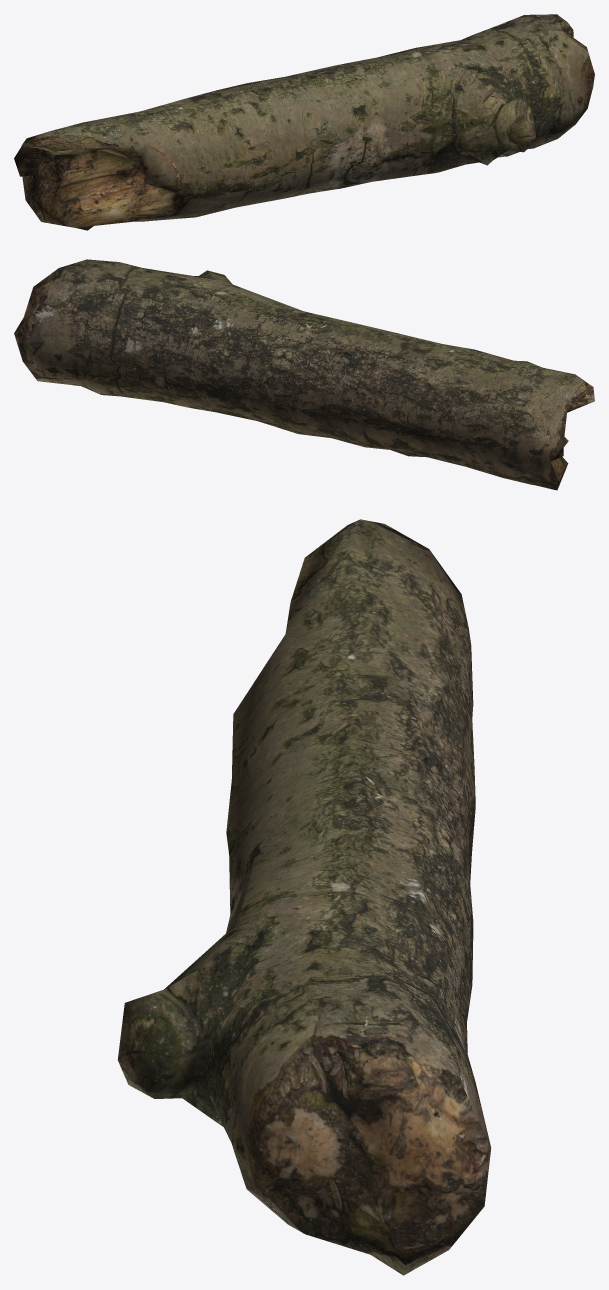
The model's file is 3DStick001_LQ-1K-JPG.obj.
3 renders of one model, top to bottom at view 1: azimuth 30°, elevation 25°; view 2: azimuth 150°, elevation 25°; view 3: azimuth 270°, elevation 25°, orthographic. The views are drawn at different scales.
Visible parts, largest first — view 1: 3DStick001_LQ-1K-JPG; view 2: 3DStick001_LQ-1K-JPG; view 3: 3DStick001_LQ-1K-JPG.
Boxes of the visible parts, left/top/right/bottom form: 3DStick001_LQ-1K-JPG: left=14, top=14, right=594, bottom=230; 3DStick001_LQ-1K-JPG: left=14, top=259, right=594, bottom=490; 3DStick001_LQ-1K-JPG: left=117, top=519, right=491, bottom=1275.
Size of the model in its own units: 0.128 by 0.0277 by 0.0371.
1 material, 1 textured.
